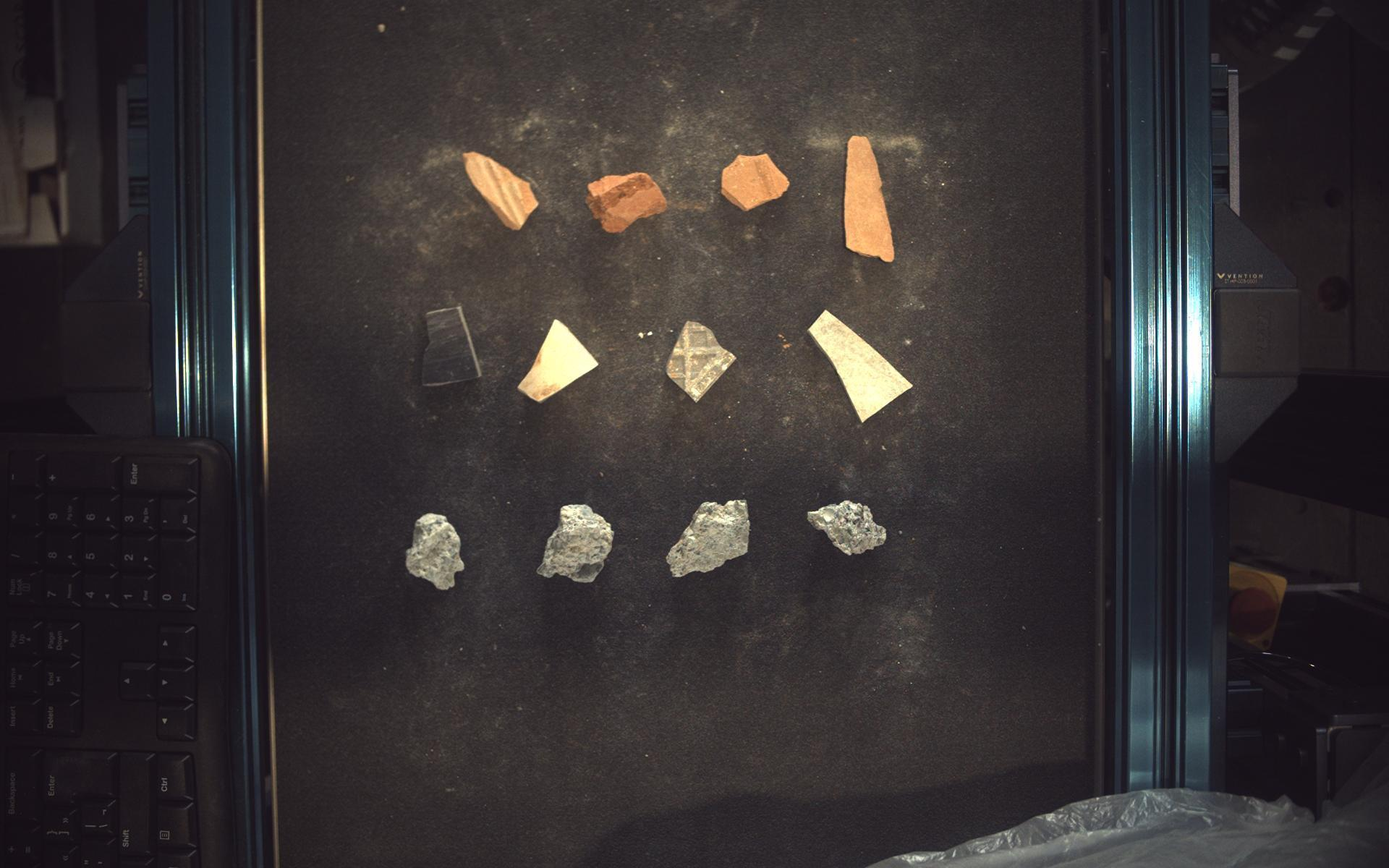brick: (846, 135, 896, 262), (464, 150, 539, 229), (587, 172, 668, 232), (723, 153, 790, 210)
concrete: (668, 501, 751, 578), (538, 506, 614, 583), (406, 514, 464, 591), (809, 501, 888, 556)
tile: (810, 310, 913, 421), (518, 319, 598, 401), (668, 320, 736, 402), (422, 305, 481, 386)
